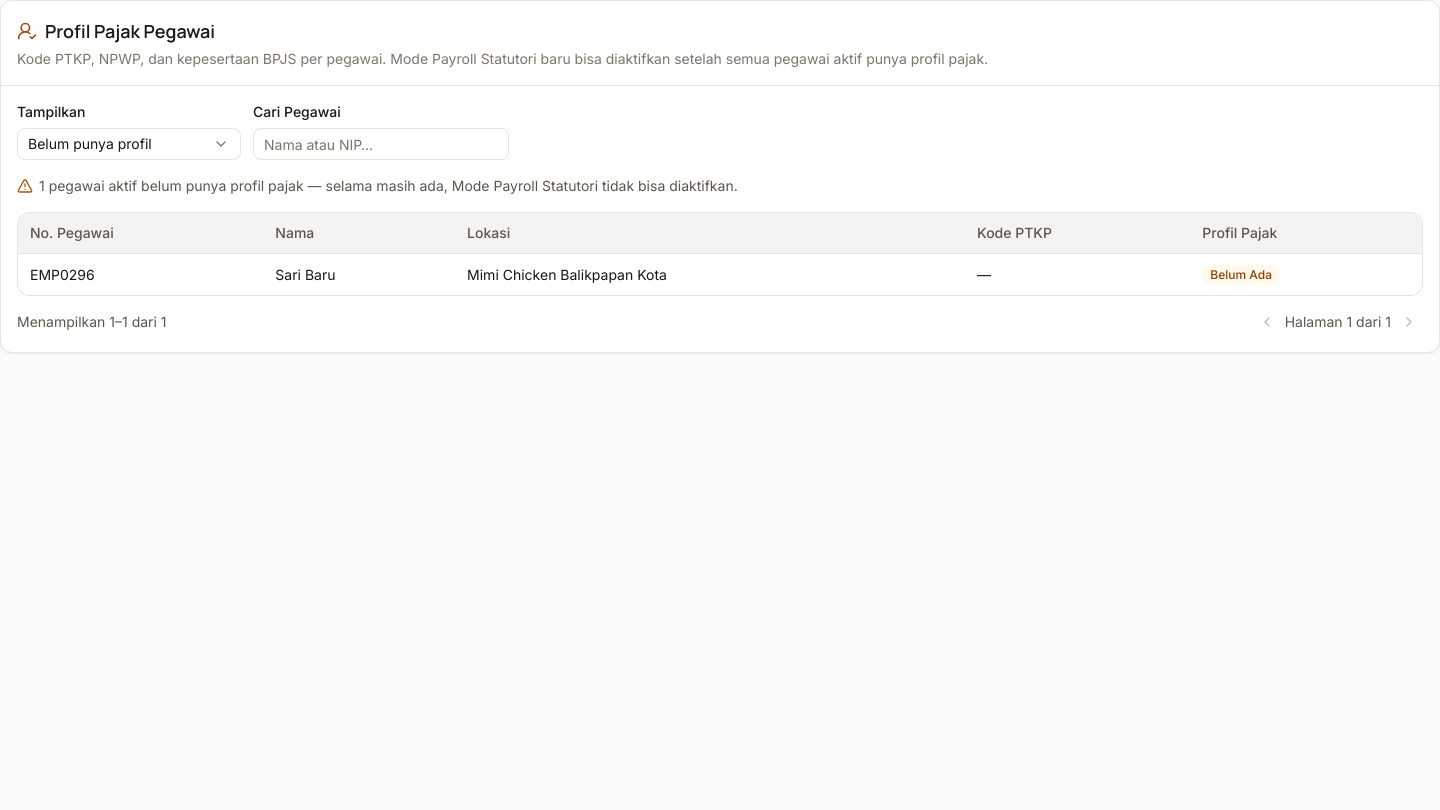
Scenario: EmployeeTaxProfilesEditor › points at the PTKP table when there is nothing to pick from
What coordinates should you click on to do the following:
click the text "Sari Baru"
I would click on:
 (305, 274)
Its box is [263, 254, 455, 295].
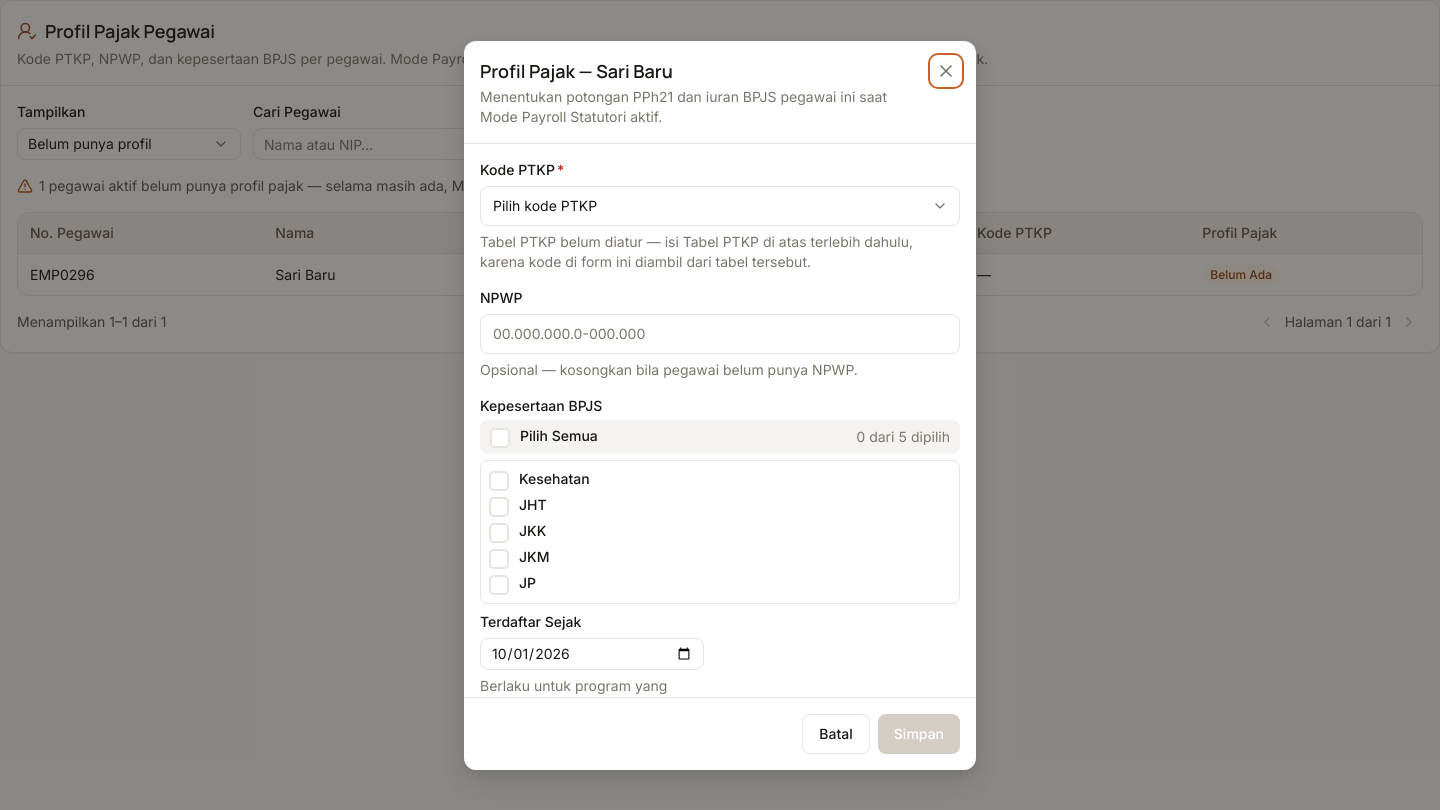
Now the text "Tabel PTKP belum diatur" is shown, box [480, 232, 913, 270]
